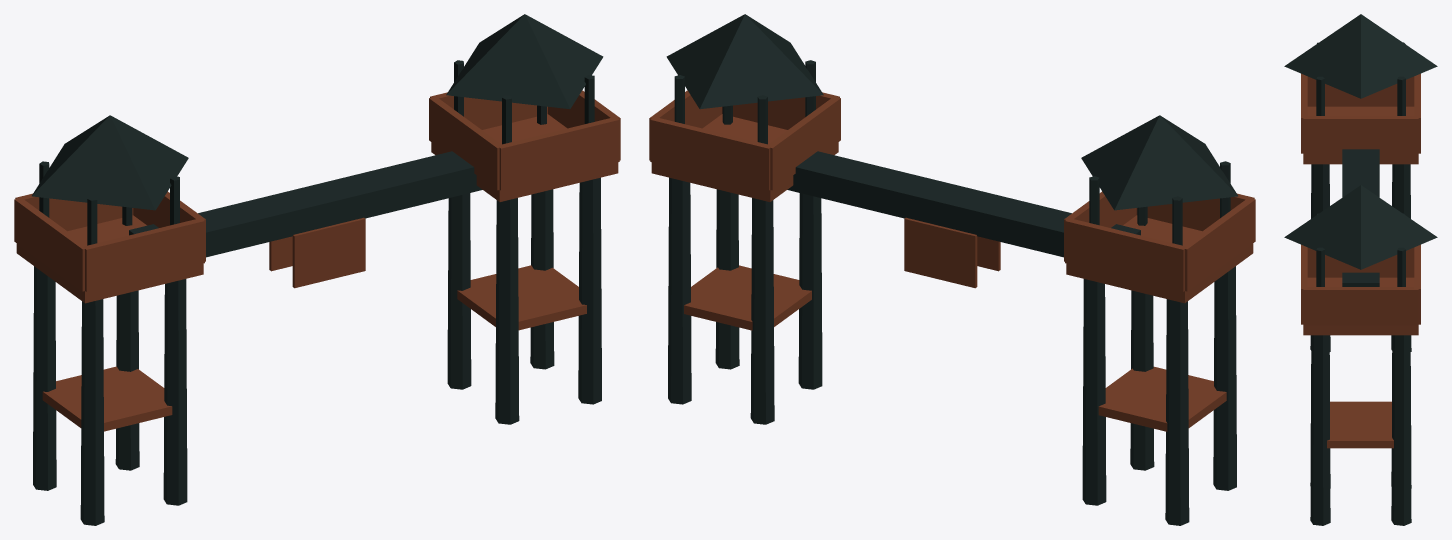
The model's file is bird_gate.glb.
The picture shows the model from 3 angles, left to right: view 1: azimuth 30°, elevation 25°; view 2: azimuth 150°, elevation 25°; view 3: azimuth 270°, elevation 25°; orthographic projection. The views are drawn at different scales.
Parts seen in each view (by area): view 1: bird_gate; view 2: bird_gate; view 3: bird_gate.
Boxes of the visible parts, bbox=[...] form: bird_gate: bbox=[14, 14, 620, 525]; bird_gate: bbox=[649, 14, 1255, 525]; bird_gate: bbox=[1284, 14, 1437, 525].
Bounding box in the file's own units: 4.83 × 3.05 × 1.33.
